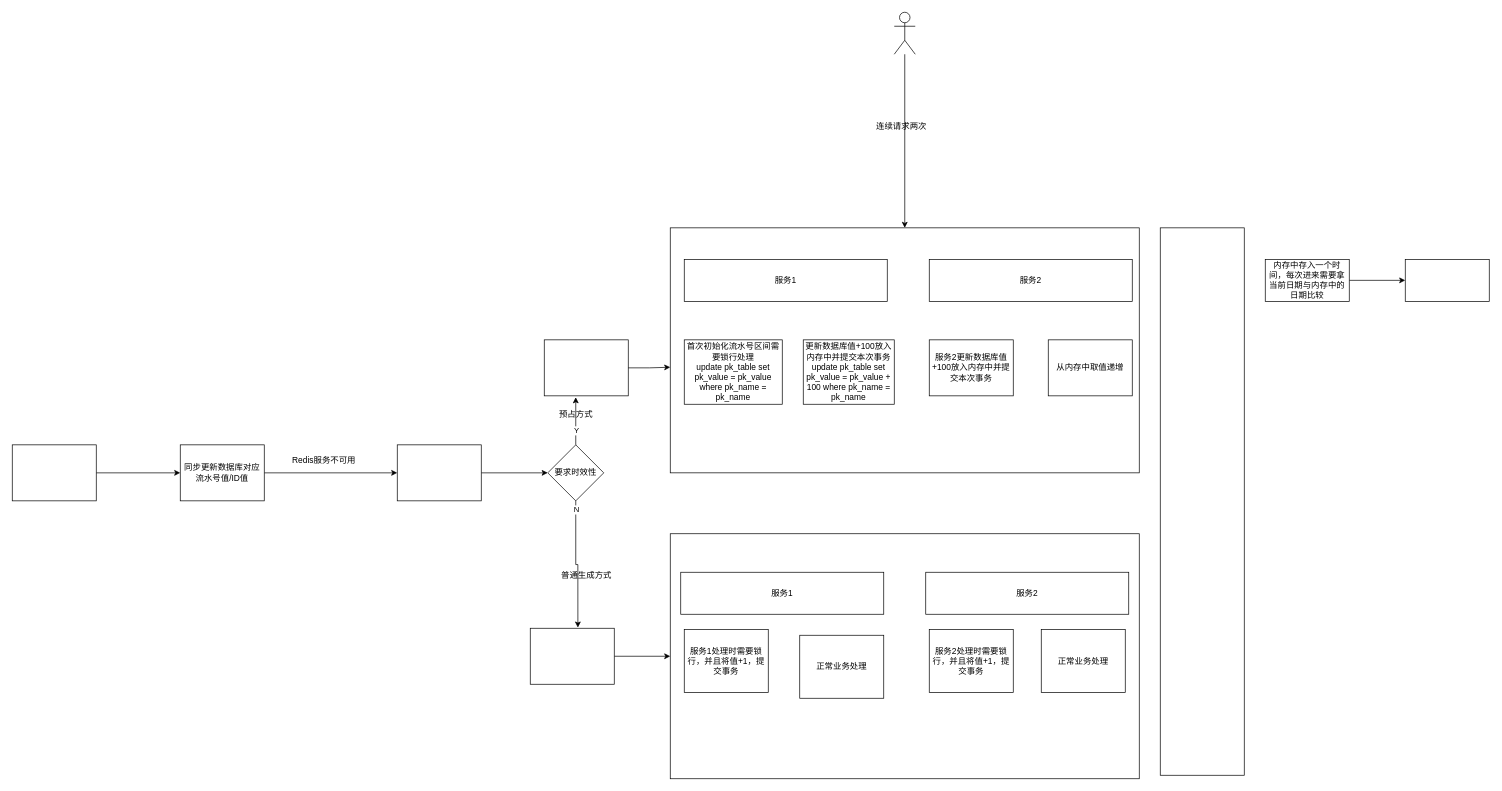
The diagram is 1502 pixels wide and 791 high, and some of its shapes have lost their labels. The shapes that lost their labels are listed below. From the top down, each one's centre as x and y in pixels, then its label:
the point at 904,33: Actor
the point at 1447,280: 不一致则重置流水号值
the point at 586,367: 每台服务会生成100个流水号放入内存
the point at 54,472: redis生成流水号/ID
the point at 439,472: 切换为数据库生成流水号/ID方式
the point at 1202,501: 按天生成流水号
the point at 572,656: 每台服务器会生成递增的流水号/ID
